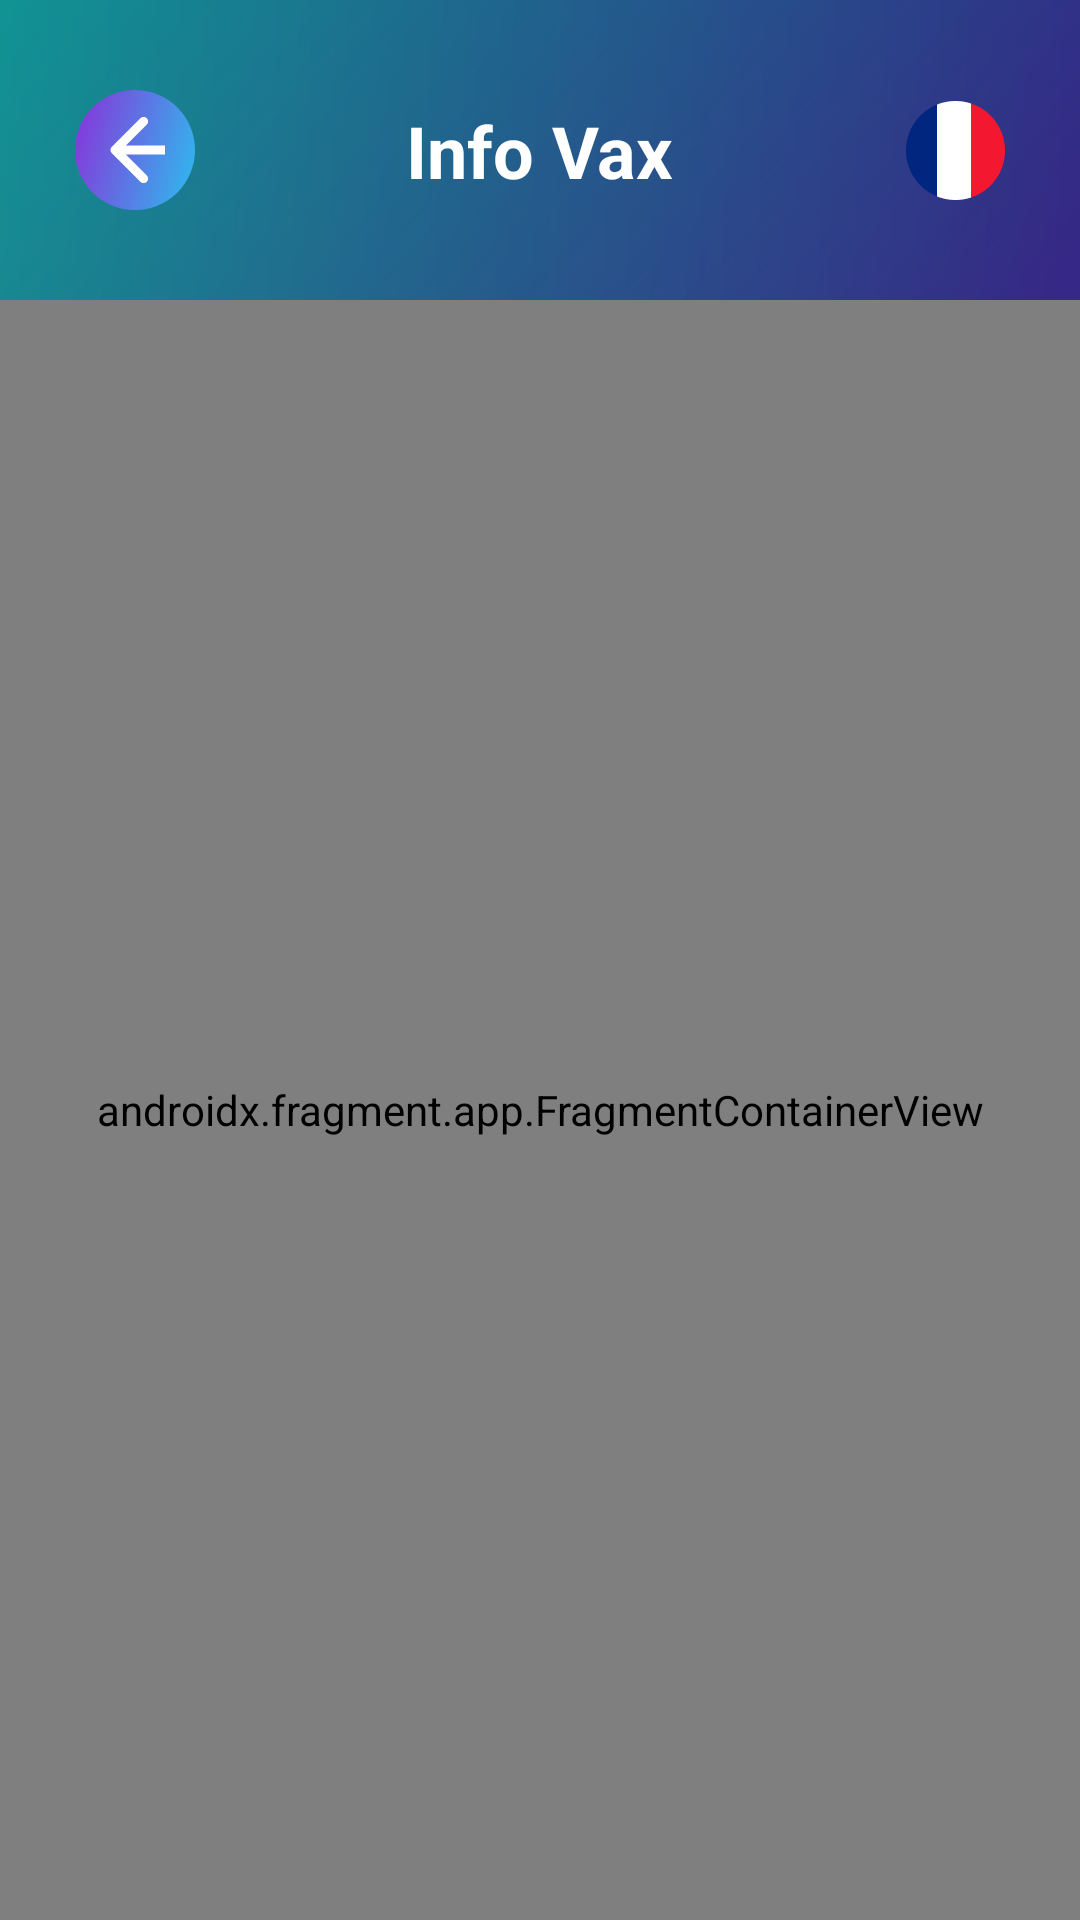

Named icons in this screenshot (1080w x 1920h) and their bounding boxes, box(x1, y1, x2, y2):
flag france: box(906, 101, 1005, 200)
